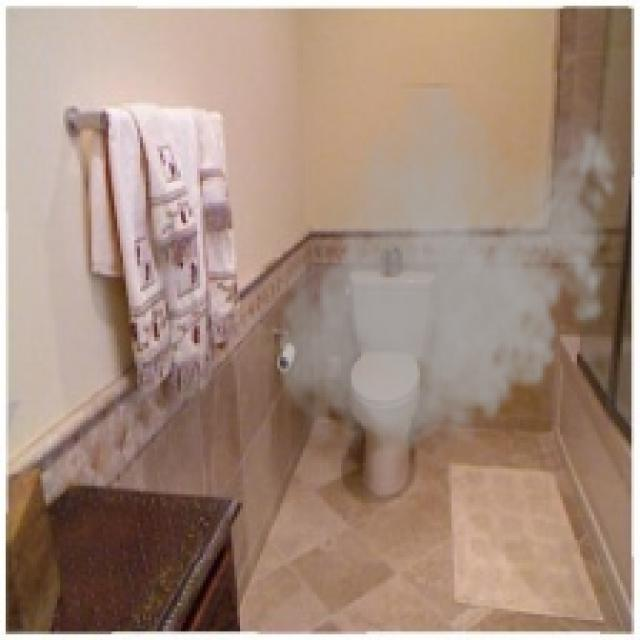Smoke: (268, 82, 628, 472)
